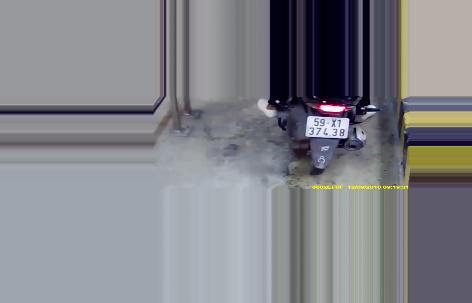License_Plate: (304, 112, 351, 140)
